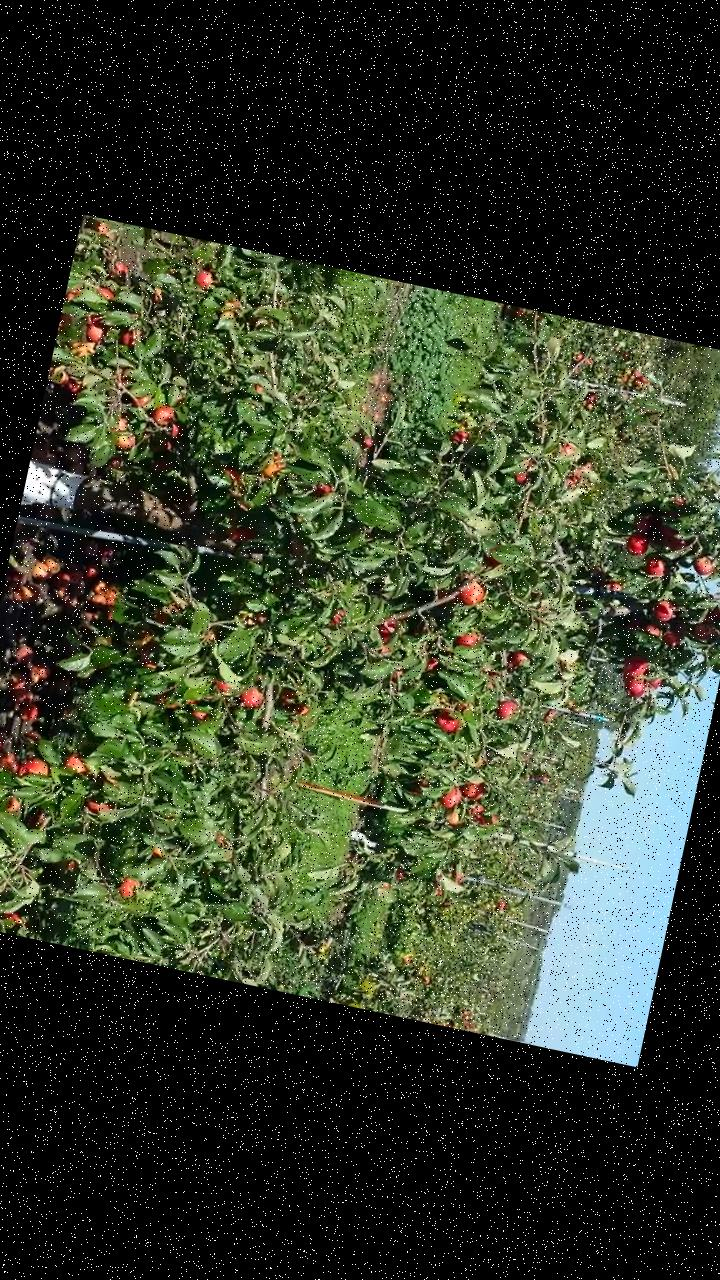Apple: (276, 684, 312, 718), (466, 800, 502, 830), (457, 577, 488, 607), (229, 518, 263, 543), (564, 460, 592, 490), (18, 755, 50, 781), (660, 494, 688, 522), (86, 313, 112, 341), (138, 644, 163, 673), (66, 337, 100, 358), (154, 691, 187, 712), (658, 526, 688, 548), (693, 618, 719, 643), (622, 673, 648, 697), (152, 402, 176, 428), (458, 779, 486, 801), (652, 598, 676, 622), (108, 412, 132, 436), (436, 709, 461, 732), (109, 256, 132, 280), (50, 365, 74, 388), (66, 376, 91, 398), (242, 685, 265, 708), (442, 783, 462, 809), (378, 617, 398, 643), (66, 753, 90, 774), (625, 534, 650, 554), (693, 553, 715, 575), (646, 554, 668, 576), (262, 458, 285, 479), (64, 284, 84, 308), (624, 658, 649, 677), (120, 875, 140, 898), (497, 699, 518, 720), (509, 650, 529, 670), (154, 606, 174, 626), (87, 799, 112, 815), (660, 630, 680, 647), (558, 441, 578, 458), (197, 268, 214, 288), (636, 516, 654, 534), (452, 428, 471, 445), (117, 432, 136, 449), (460, 630, 479, 646), (222, 467, 242, 482), (7, 796, 22, 815), (96, 286, 115, 300), (648, 674, 664, 690), (254, 609, 270, 624), (448, 809, 462, 826), (607, 578, 623, 592), (138, 392, 154, 406), (6, 908, 22, 922), (122, 328, 136, 344), (56, 320, 67, 340), (169, 421, 181, 438), (426, 656, 438, 672), (487, 553, 500, 567), (362, 434, 375, 448), (214, 682, 229, 694), (193, 708, 208, 720), (334, 608, 345, 624), (316, 482, 332, 492), (152, 846, 164, 858), (515, 472, 526, 485), (647, 624, 661, 634), (162, 437, 172, 450), (256, 384, 265, 394), (543, 774, 549, 781)
